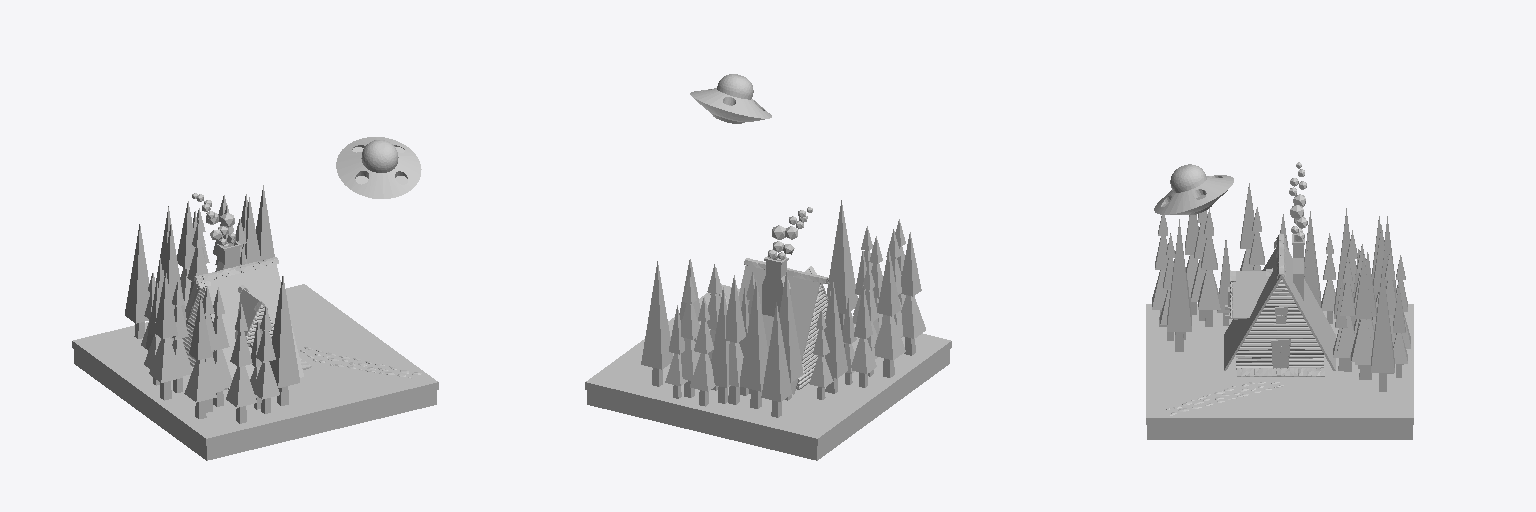
The model's file is WoodSceneUfo.obj.
The picture shows the model from 3 angles: view 1: azimuth 30°, elevation 25°; view 2: azimuth 150°, elevation 25°; view 3: azimuth 270°, elevation 25°; orthographic projection.
Visible parts, largest first — view 1: Куб, Цилиндр.003, Куб.006, Куб.013.002, Куб.014.007, Куб.014.008, Куб.012.008, Куб.013.005, Куб.012.005, Куб.012.007, Куб.012.009, Куб.014.003 (+8 smaller); view 2: Куб, Цилиндр.003, Куб.006, Куб.013, Куб.013.003, Куб.014.007, Куб.013.002, Куб.013.005, Куб.014.008, Куб.014.003, Куб.012.000, Куб.012.003 (+13 smaller); view 3: Куб, Цилиндр.001, Куб.006, Цилиндр.003, Куб.013.002, Куб.013, Куб.014.001, Куб.012.007, Куб.002, Куб.012.001, Куб.012.008, Куб.014.008 (+12 smaller).
Boxes of the visible parts, x1=… form: Куб: x1=72, y1=284, x2=438, y2=460; Цилиндр.003: x1=336, y1=137, x2=421, y2=198; Куб.006: x1=186, y1=264, x2=303, y2=389; Куб.013.002: x1=269, y1=276, x2=299, y2=405; Куб.014.007: x1=149, y1=272, x2=182, y2=400; Куб.014.008: x1=184, y1=296, x2=216, y2=418; Куб.012.008: x1=226, y1=304, x2=256, y2=423; Куб.013.005: x1=125, y1=224, x2=149, y2=338; Куб.012.005: x1=253, y1=307, x2=279, y2=413; Куб.012.007: x1=213, y1=287, x2=231, y2=406; Куб.012.009: x1=172, y1=280, x2=191, y2=392; Куб.014.003: x1=177, y1=201, x2=195, y2=308; Куб: x1=585, y1=284, x2=951, y2=460; Цилиндр.003: x1=690, y1=74, x2=771, y2=123; Куб.006: x1=739, y1=265, x2=845, y2=394; Куб.013: x1=641, y1=261, x2=672, y2=386; Куб.013.003: x1=740, y1=280, x2=767, y2=408; Куб.014.007: x1=874, y1=249, x2=905, y2=377; Куб.013.002: x1=827, y1=200, x2=857, y2=329; Куб.013.005: x1=761, y1=302, x2=791, y2=417; Куб.014.008: x1=901, y1=232, x2=925, y2=355; Куб.014.003: x1=726, y1=275, x2=745, y2=404; Куб.012.000: x1=681, y1=275, x2=699, y2=397; Куб.012.003: x1=690, y1=297, x2=715, y2=406; Куб: x1=1146, y1=304, x2=1413, y2=439; Цилиндр.001: x1=1236, y1=279, x2=1323, y2=369; Куб.006: x1=1224, y1=247, x2=1335, y2=370; Цилиндр.003: x1=1154, y1=164, x2=1233, y2=214; Куб.013.002: x1=1167, y1=219, x2=1191, y2=351; Куб.013: x1=1371, y1=269, x2=1394, y2=391; Куб.014.001: x1=1351, y1=254, x2=1372, y2=379; Куб.012.007: x1=1198, y1=208, x2=1220, y2=326; Куб.002: x1=1233, y1=271, x2=1269, y2=317; Куб.012.001: x1=1337, y1=257, x2=1354, y2=371; Куб.012.008: x1=1152, y1=215, x2=1167, y2=326; Куб.014.008: x1=1185, y1=214, x2=1198, y2=314.
Bounding box in the file's own units: 3.3 × 3.45 × 3.28.